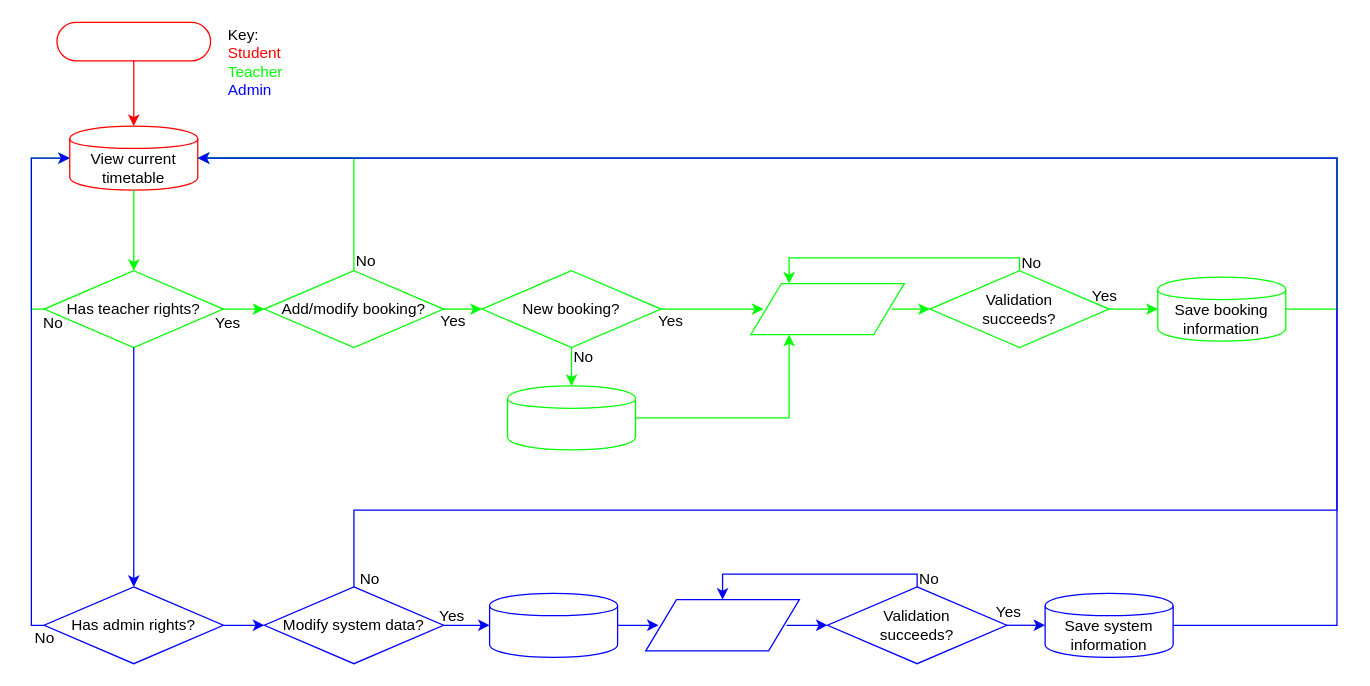
The diagram is 1370 pixels wide and 686 high, and some of its shapes have lost their labels. The shapes that lost their labels are listed below. From the top down, each one's centre as x and y in pixels, then its label:
point (133, 41): Start
point (826, 308): Show b ooking window
point (571, 417): Load booking information
point (553, 624): Load system information
point (721, 624): Show system edit window
